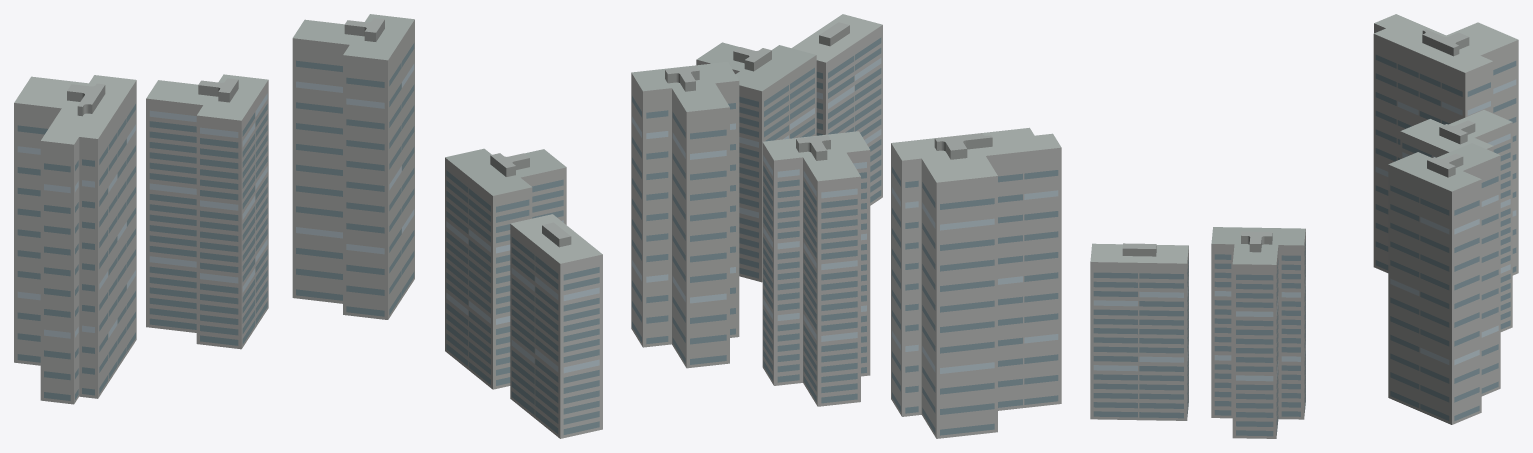
The model's file is apt-a12171201.glb.
The picture shows the model from 3 angles, left to right: view 1: azimuth 30°, elevation 25°; view 2: azimuth 150°, elevation 25°; view 3: azimuth 270°, elevation 25°; orthographic projection. The views are drawn at different scales.
Visible parts, largest first — view 1: apt-a12171201; view 2: apt-a12171201; view 3: apt-a12171201.
Part boxes in pixels (x1=…): apt-a12171201: x1=14, y1=14, x2=602, y2=438; apt-a12171201: x1=631, y1=14, x2=1061, y2=438; apt-a12171201: x1=1090, y1=14, x2=1518, y2=438.
Bounding box in the file's own units: 117 × 69 × 111.
